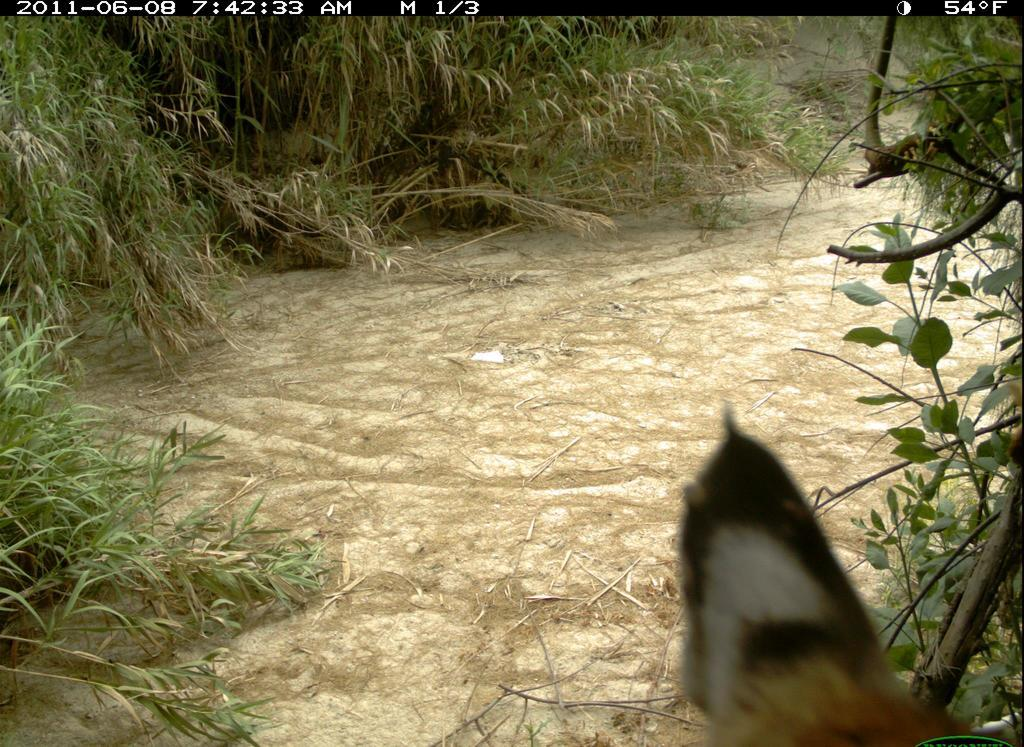bobcat: (620, 400, 999, 747)
